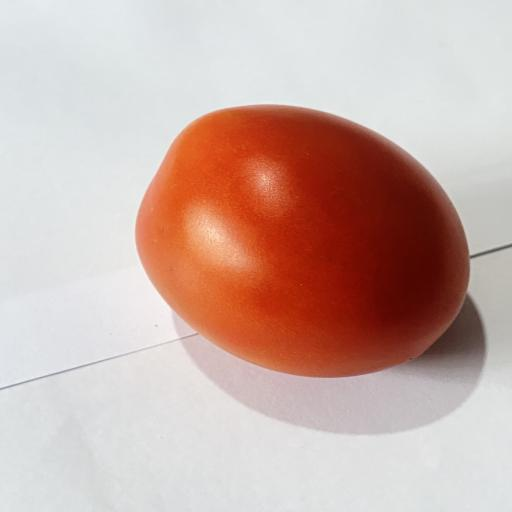ripe: (136, 105, 470, 377)
